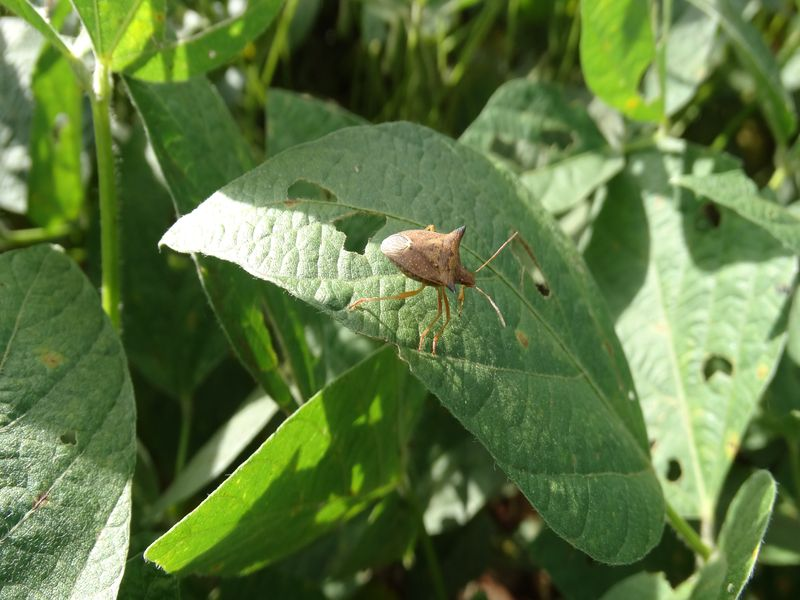Euschistus_heros_adulto: (339, 213, 521, 359)
